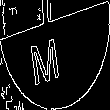M_N: (38, 25, 72, 85)
